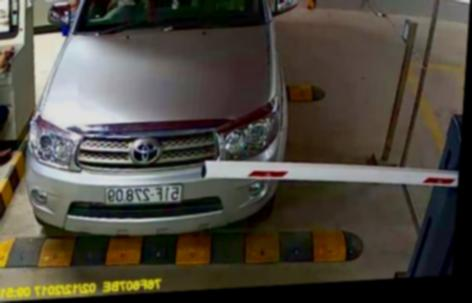License_Plate: (103, 179, 187, 207)
